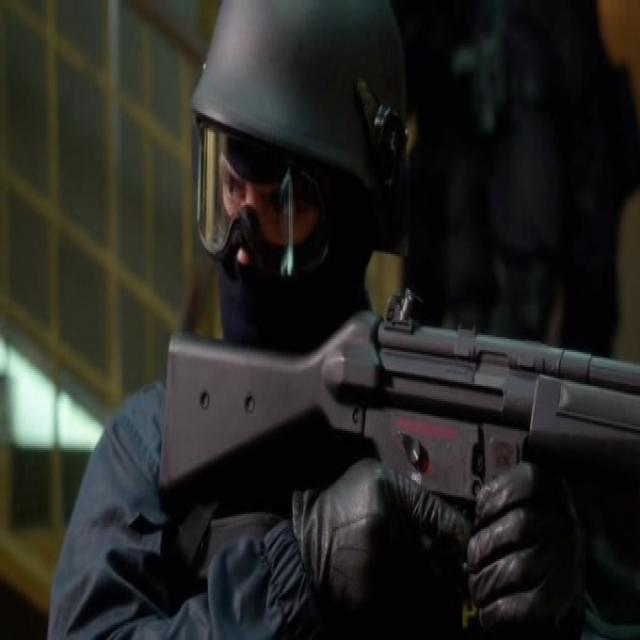rifle: (158, 289, 640, 519)
